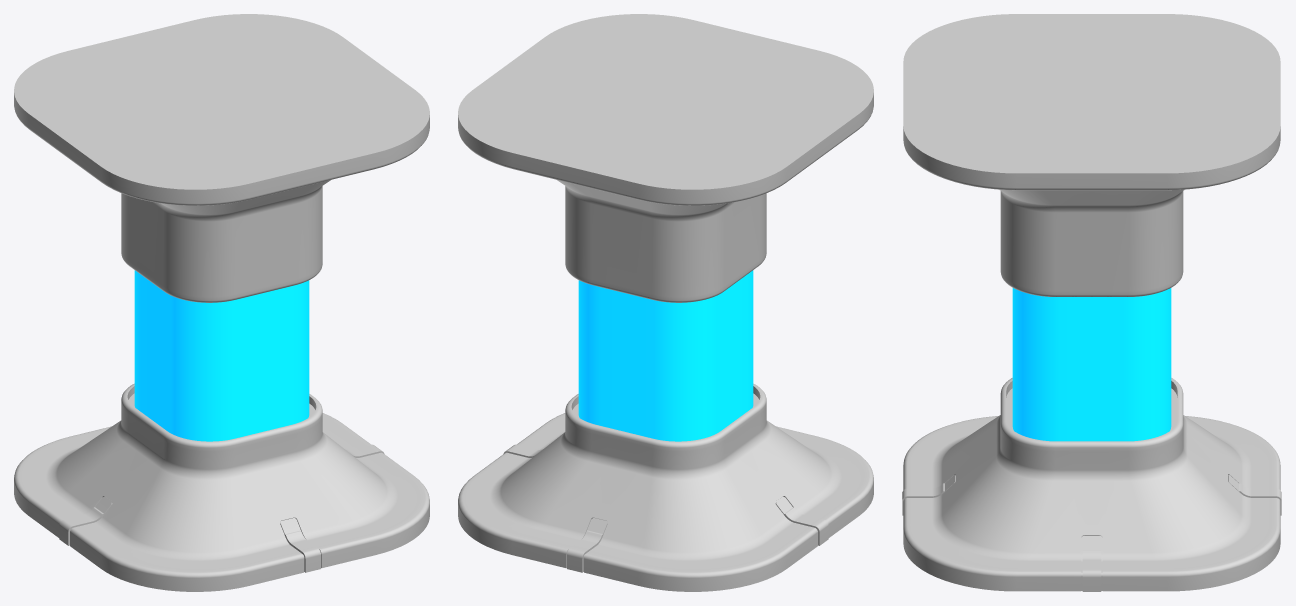
Rendered from SM_MOD_Laser_Column_01.fbx.
The picture shows the model from 3 angles, left to right: view 1: azimuth 30°, elevation 25°; view 2: azimuth 150°, elevation 25°; view 3: azimuth 270°, elevation 25°; orthographic projection. The views are drawn at different scales.
Visible parts, largest first — view 1: SM_MOD_Laser_Column_01_LOD0; view 2: SM_MOD_Laser_Column_01_LOD0; view 3: SM_MOD_Laser_Column_01_LOD0.
Boxes of the visible parts, x1=… form: SM_MOD_Laser_Column_01_LOD0: x1=14, y1=14, x2=429, y2=591; SM_MOD_Laser_Column_01_LOD0: x1=458, y1=14, x2=873, y2=591; SM_MOD_Laser_Column_01_LOD0: x1=902, y1=14, x2=1281, y2=591.
Size of what is drawn, in the model's own units: 316 by 384 by 316.
